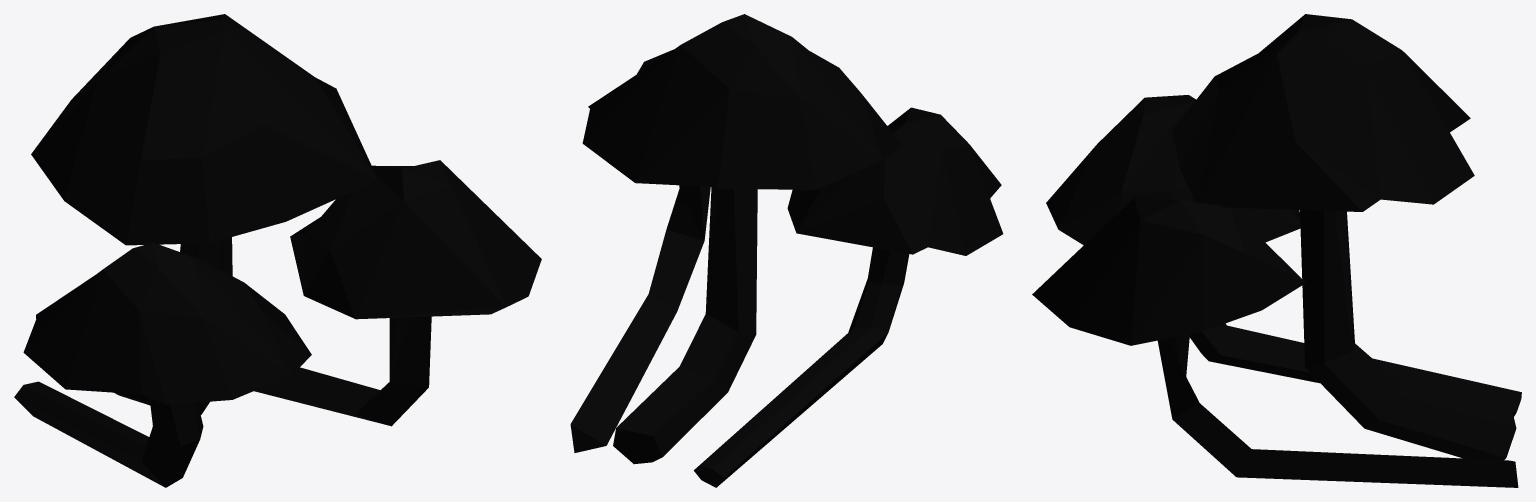
The model's file is synty-plant-mushrooms-04.gltf.
The picture shows the model from 3 angles, left to right: view 1: azimuth 30°, elevation 25°; view 2: azimuth 150°, elevation 25°; view 3: azimuth 270°, elevation 25°; orthographic projection. The views are drawn at different scales.
Visible parts, largest first — view 1: SM_Plant_Mushrooms_04; view 2: SM_Plant_Mushrooms_04; view 3: SM_Plant_Mushrooms_04.
Part boxes in pixels (x1,y1,x2,y2): SM_Plant_Mushrooms_04: (14,14,541,487); SM_Plant_Mushrooms_04: (570,14,1003,487); SM_Plant_Mushrooms_04: (1032,14,1521,487).
Size of the model in its own units: 0.4845 by 0.4537 by 0.4738.
Materials: 1 (1 with a texture image).
